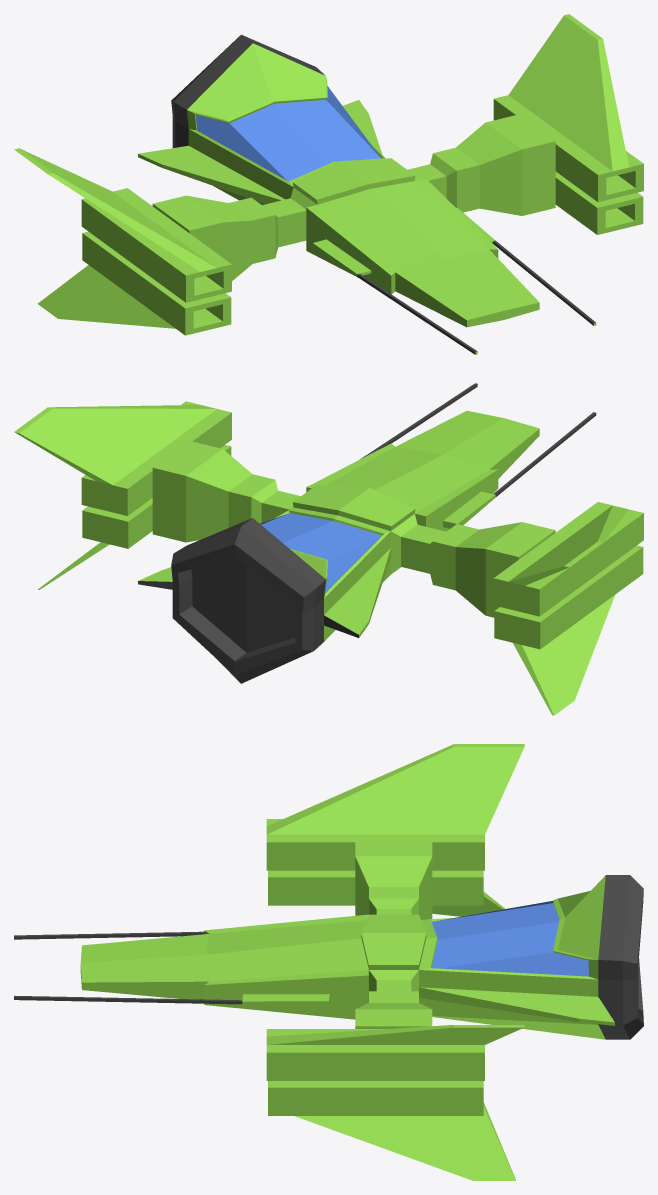
File: EclipseSerpent444.fbx
The picture shows the model from 3 angles, top to bottom: view 1: azimuth 30°, elevation 25°; view 2: azimuth 150°, elevation 25°; view 3: azimuth 270°, elevation 25°; orthographic projection. The views are drawn at different scales.
Visible parts, largest first — view 1: EclipseSerpent444; view 2: EclipseSerpent444; view 3: EclipseSerpent444.
Part boxes in pixels (<box>): EclipseSerpent444: <box>14,14,643,354</box>; EclipseSerpent444: <box>14,383,643,715</box>; EclipseSerpent444: <box>14,744,643,1180</box>.
Size of the model in its own units: 34.66 by 9.92 by 32.56.
